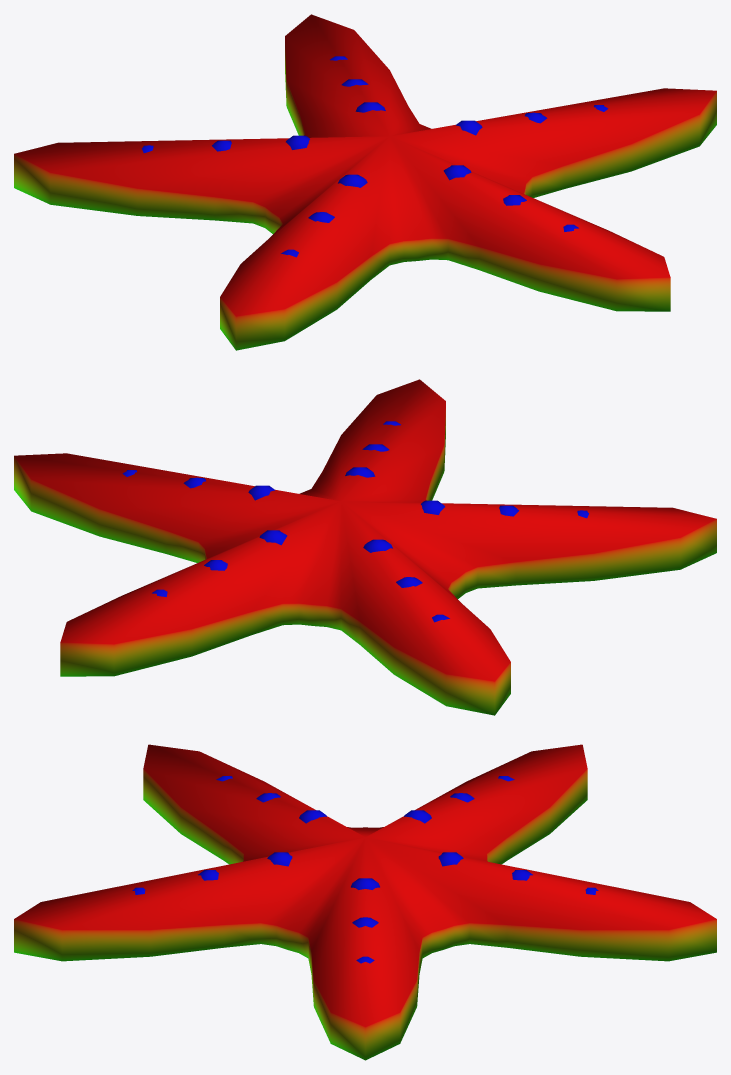
Rendered from fish_starfish.glb.
3 views of the same model, one above another, from view 1: azimuth 30°, elevation 25°; view 2: azimuth 150°, elevation 25°; view 3: azimuth 270°, elevation 25° (orthographic). The views are drawn at different scales.
Parts seen in each view (by area): view 1: Body; view 2: Body; view 3: Body.
Boxes of the visible parts, x1=… form: Body: x1=14, y1=14, x2=716, y2=350; Body: x1=14, y1=379, x2=716, y2=715; Body: x1=14, y1=744, x2=716, y2=1060.
Size of the model in its own units: 0.9045 by 0.12 by 0.9511.
